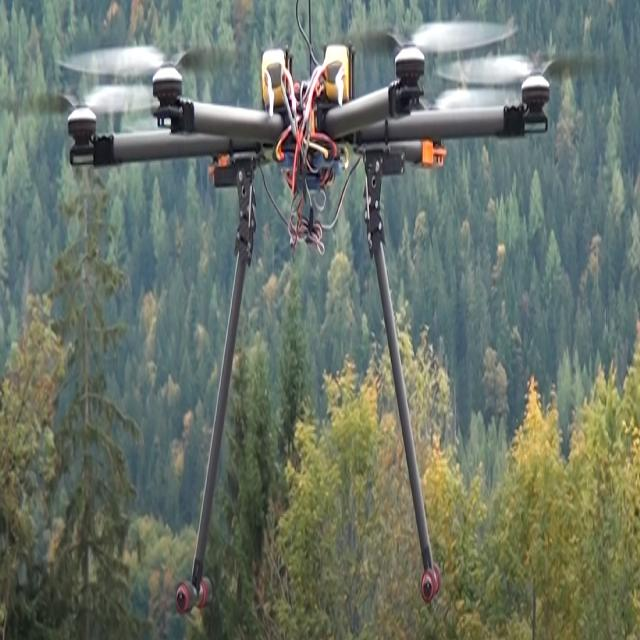drone: (21, 0, 617, 614)
